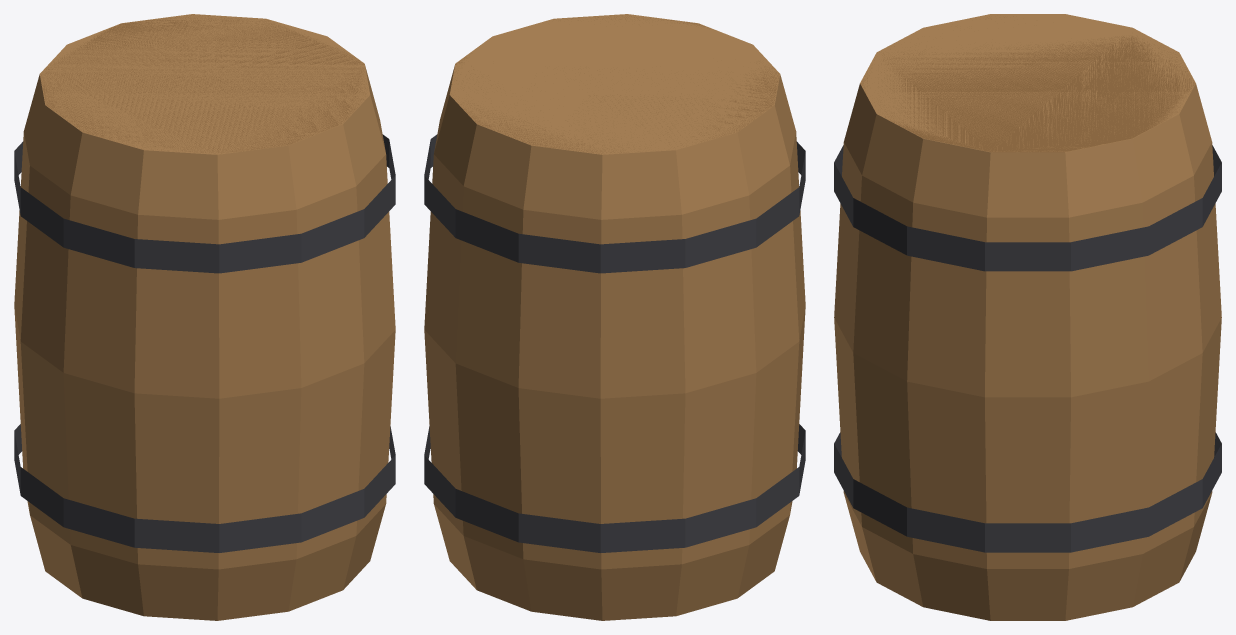
File: barrel.glb
3 views of the same model, side by side, from view 1: azimuth 30°, elevation 25°; view 2: azimuth 150°, elevation 25°; view 3: azimuth 270°, elevation 25° (orthographic).
Visible parts, largest first — view 1: barrel; view 2: barrel; view 3: barrel.
Part boxes in pixels (x1,y1,x2,y2): barrel: (14,14,395,620); barrel: (424,14,805,620); barrel: (834,14,1221,620).
Size of the model in its own units: 0.585 by 0.8 by 0.6.
